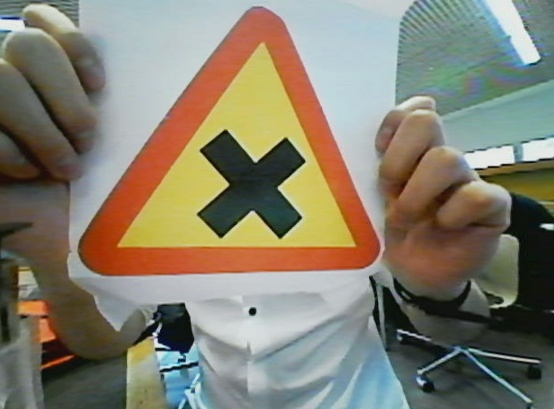junction: (77, 8, 385, 274)
